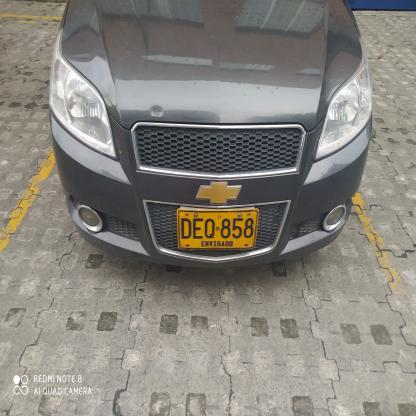placa: (174, 205, 263, 254)
